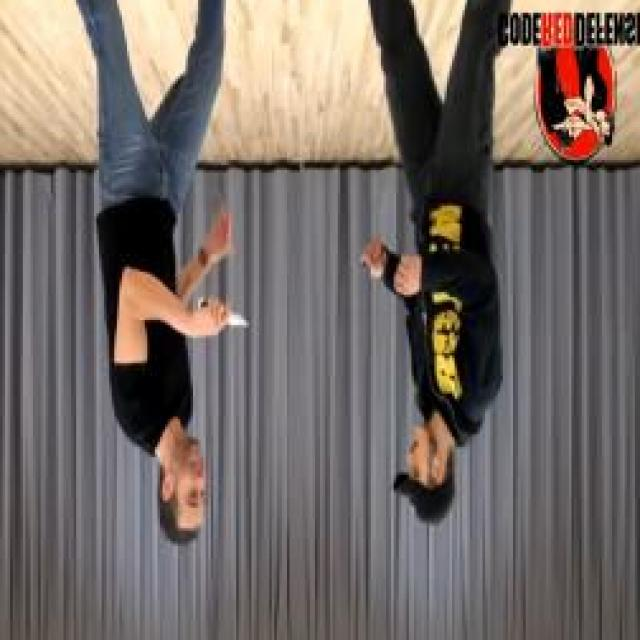knife: (196, 294, 252, 343)
